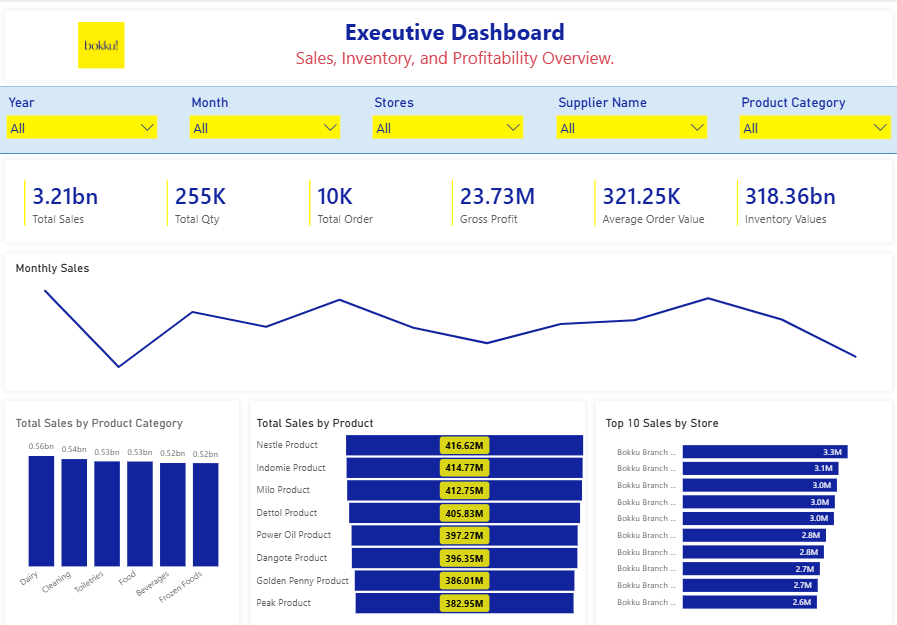

What the dashboard file says about the page in this screenshot:
{"tool":"powerbi","page":{"name":"Executive Dashboard","canvas":[1280,900],"ordinal":1},"visuals":[{"type":"shape","box":[0,123.9,1280.2,96.8],"z":0},{"type":"shape","box":[0,220.7,1280.2,133.9],"z":1000},{"type":"shape","box":[0,355,1280,211.2],"z":2000},{"type":"shape","box":[349.7,563.6,492.2,336.2],"z":3000},{"type":"shape","box":[841.9,563.6,438.4,336.2],"z":4000},{"type":"shape","box":[0,563.6,349.7,336.2],"z":5000},{"type":"shape","box":[0,8.1,1280.4,115.7],"z":6000},{"type":"textbox","box":[18.5,18.5,1261.7,89.7],"z":7000},{"type":"image","box":[108.9,32.3,72.6,65.9],"z":8000},{"type":"cardVisual","fields":{"Data":["sales_transactions.Total Sales","sales_transactions.Total Qty","sales_transactions.Total Order","sales_transactions.Gross Profit","sales_transactions.Average Order Value","inventory_product.Inventory Values"]},"box":[18.5,239.2,1247.5,102.5],"z":9000},{"type":"slicer","fields":{"Values":["products.category"]},"box":[1043.3,130.8,236.7,68.6],"z":10000},{"type":"lineChart","title":"Monthly Sales","fields":{"Category":["Dates.Month"],"Y":["sales_transactions.Total Sales"]},"box":[18.8,372.5,1248.1,178.9],"z":11000},{"type":"clusteredColumnChart","title":"Total Sales by Product Category","fields":{"Y":["sales_transactions.Total Sales"],"Category":["products.category"]},"box":[18.8,593.2,318.8,289.2],"z":12000},{"type":"barChart","title":"Top 10 Sales by Store","fields":{"Y":["sales_transactions.Total Sales"],"Category":["stores.branch_name"]},"box":[858.1,593.2,408.9,289.2],"z":13000},{"type":"funnel","title":"Total Sales by Product","fields":{"Category":["products.product_name"],"Y":["sales_transactions.Total Sales"]},"box":[361.8,593.2,480.1,289.2],"z":14000},{"type":"slicer","fields":{"Values":["Dates.Year"]},"box":[0,131,236.4,68.4],"z":15000},{"type":"slicer","fields":{"Values":["Dates.Month"]},"box":[260.9,131,236.4,68.4],"z":16000},{"type":"slicer","fields":{"Values":["stores.branch_name"]},"box":[521.8,131,236.4,68.4],"z":17000},{"type":"slicer","fields":{"Values":["suppliers.supplier_name"]},"box":[782.8,131,236.4,68.4],"z":18000}]}

Visuals, with their boxes in screenshot pixels (x1, y1, x2, y2), scaled from the page's 1280x900 canvas onto the 897x625 screenshot:
shape: select_region(0, 86, 896, 153)
shape: select_region(0, 153, 896, 246)
shape: select_region(0, 247, 896, 393)
shape: select_region(245, 391, 590, 624)
shape: select_region(590, 391, 896, 624)
shape: select_region(0, 391, 245, 624)
shape: select_region(0, 6, 896, 86)
textbox: select_region(13, 13, 896, 75)
image: select_region(76, 22, 127, 68)
cardVisual - sales_transactions.Total Sales x sales_transactions.Total Qty: select_region(13, 166, 887, 237)
slicer - products.category: select_region(731, 91, 896, 138)
"Monthly Sales" lineChart: select_region(13, 259, 888, 383)
"Total Sales by Product Category" clusteredColumnChart: select_region(13, 412, 237, 613)
"Top 10 Sales by Store" barChart: select_region(601, 412, 888, 613)
"Total Sales by Product" funnel: select_region(254, 412, 590, 613)
slicer - Dates.Year: select_region(0, 91, 166, 138)
slicer - Dates.Month: select_region(183, 91, 348, 138)
slicer - stores.branch_name: select_region(366, 91, 531, 138)
slicer - suppliers.supplier_name: select_region(549, 91, 714, 138)
